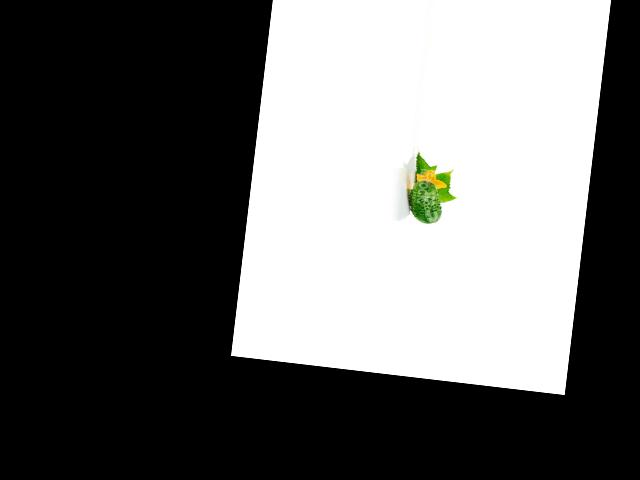cucumber: (406, 180, 444, 225)
